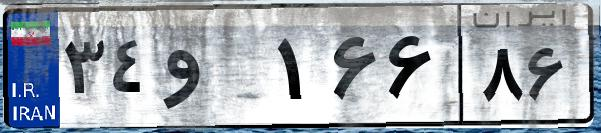1: (270, 28, 330, 110)
3: (57, 26, 110, 100)
4: (110, 28, 158, 98)
6: (385, 28, 445, 110), (330, 28, 385, 110), (525, 38, 570, 115)
8: (475, 38, 525, 113)
و: (158, 20, 270, 120)
